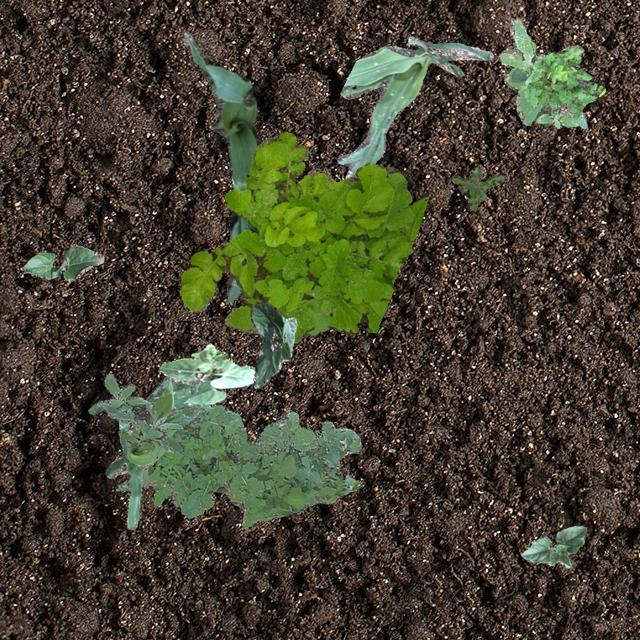crop: (337, 36, 492, 178), (182, 32, 258, 300), (104, 374, 198, 528), (158, 342, 255, 406), (250, 300, 296, 388), (22, 243, 104, 280), (520, 524, 586, 566)
weed: (178, 130, 426, 342), (114, 402, 360, 528), (498, 17, 586, 128), (88, 372, 198, 452), (522, 44, 604, 118), (451, 167, 504, 210)
